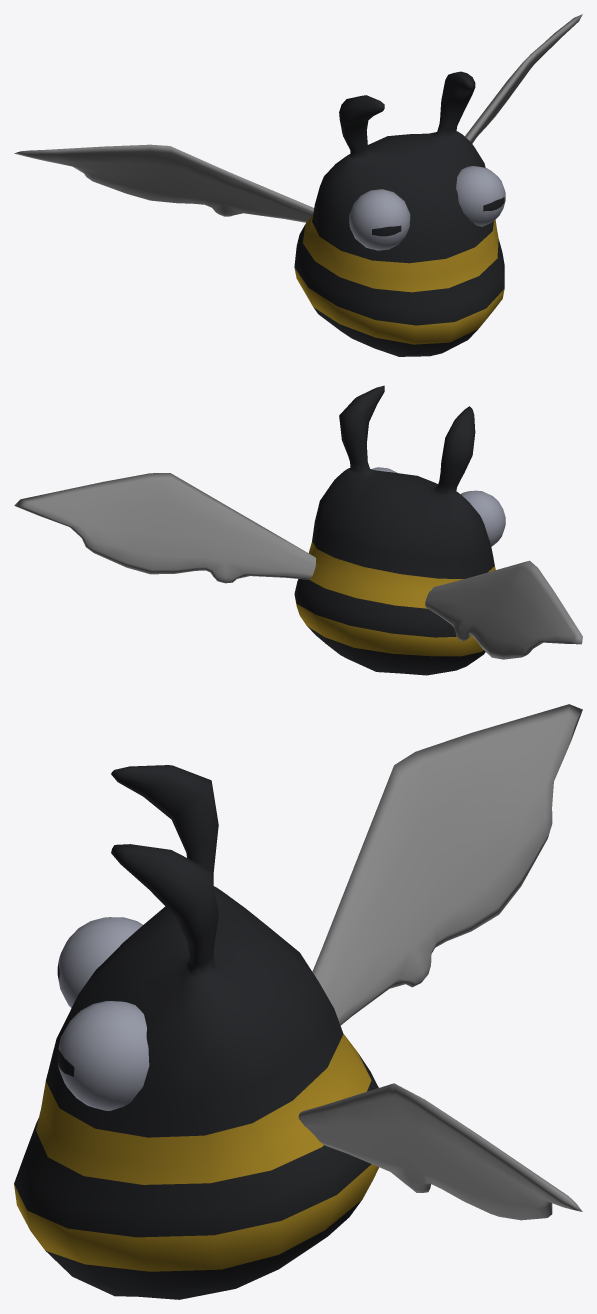
Rendered from armabee.glb.
The picture shows the model from 3 angles, top to bottom: view 1: azimuth 30°, elevation 25°; view 2: azimuth 150°, elevation 25°; view 3: azimuth 270°, elevation 25°; orthographic projection. The views are drawn at different scales.
Visible parts, largest first — view 1: Armabee; view 2: Armabee; view 3: Armabee.
Boxes of the visible parts, x1,y1,x2,y2 form: Armabee: (14,14,582,356); Armabee: (14,385,582,675); Armabee: (14,704,582,1299).
Bounding box in the file's own units: 4.3 × 1.89 × 2.06.
1 material, 1 textured.
